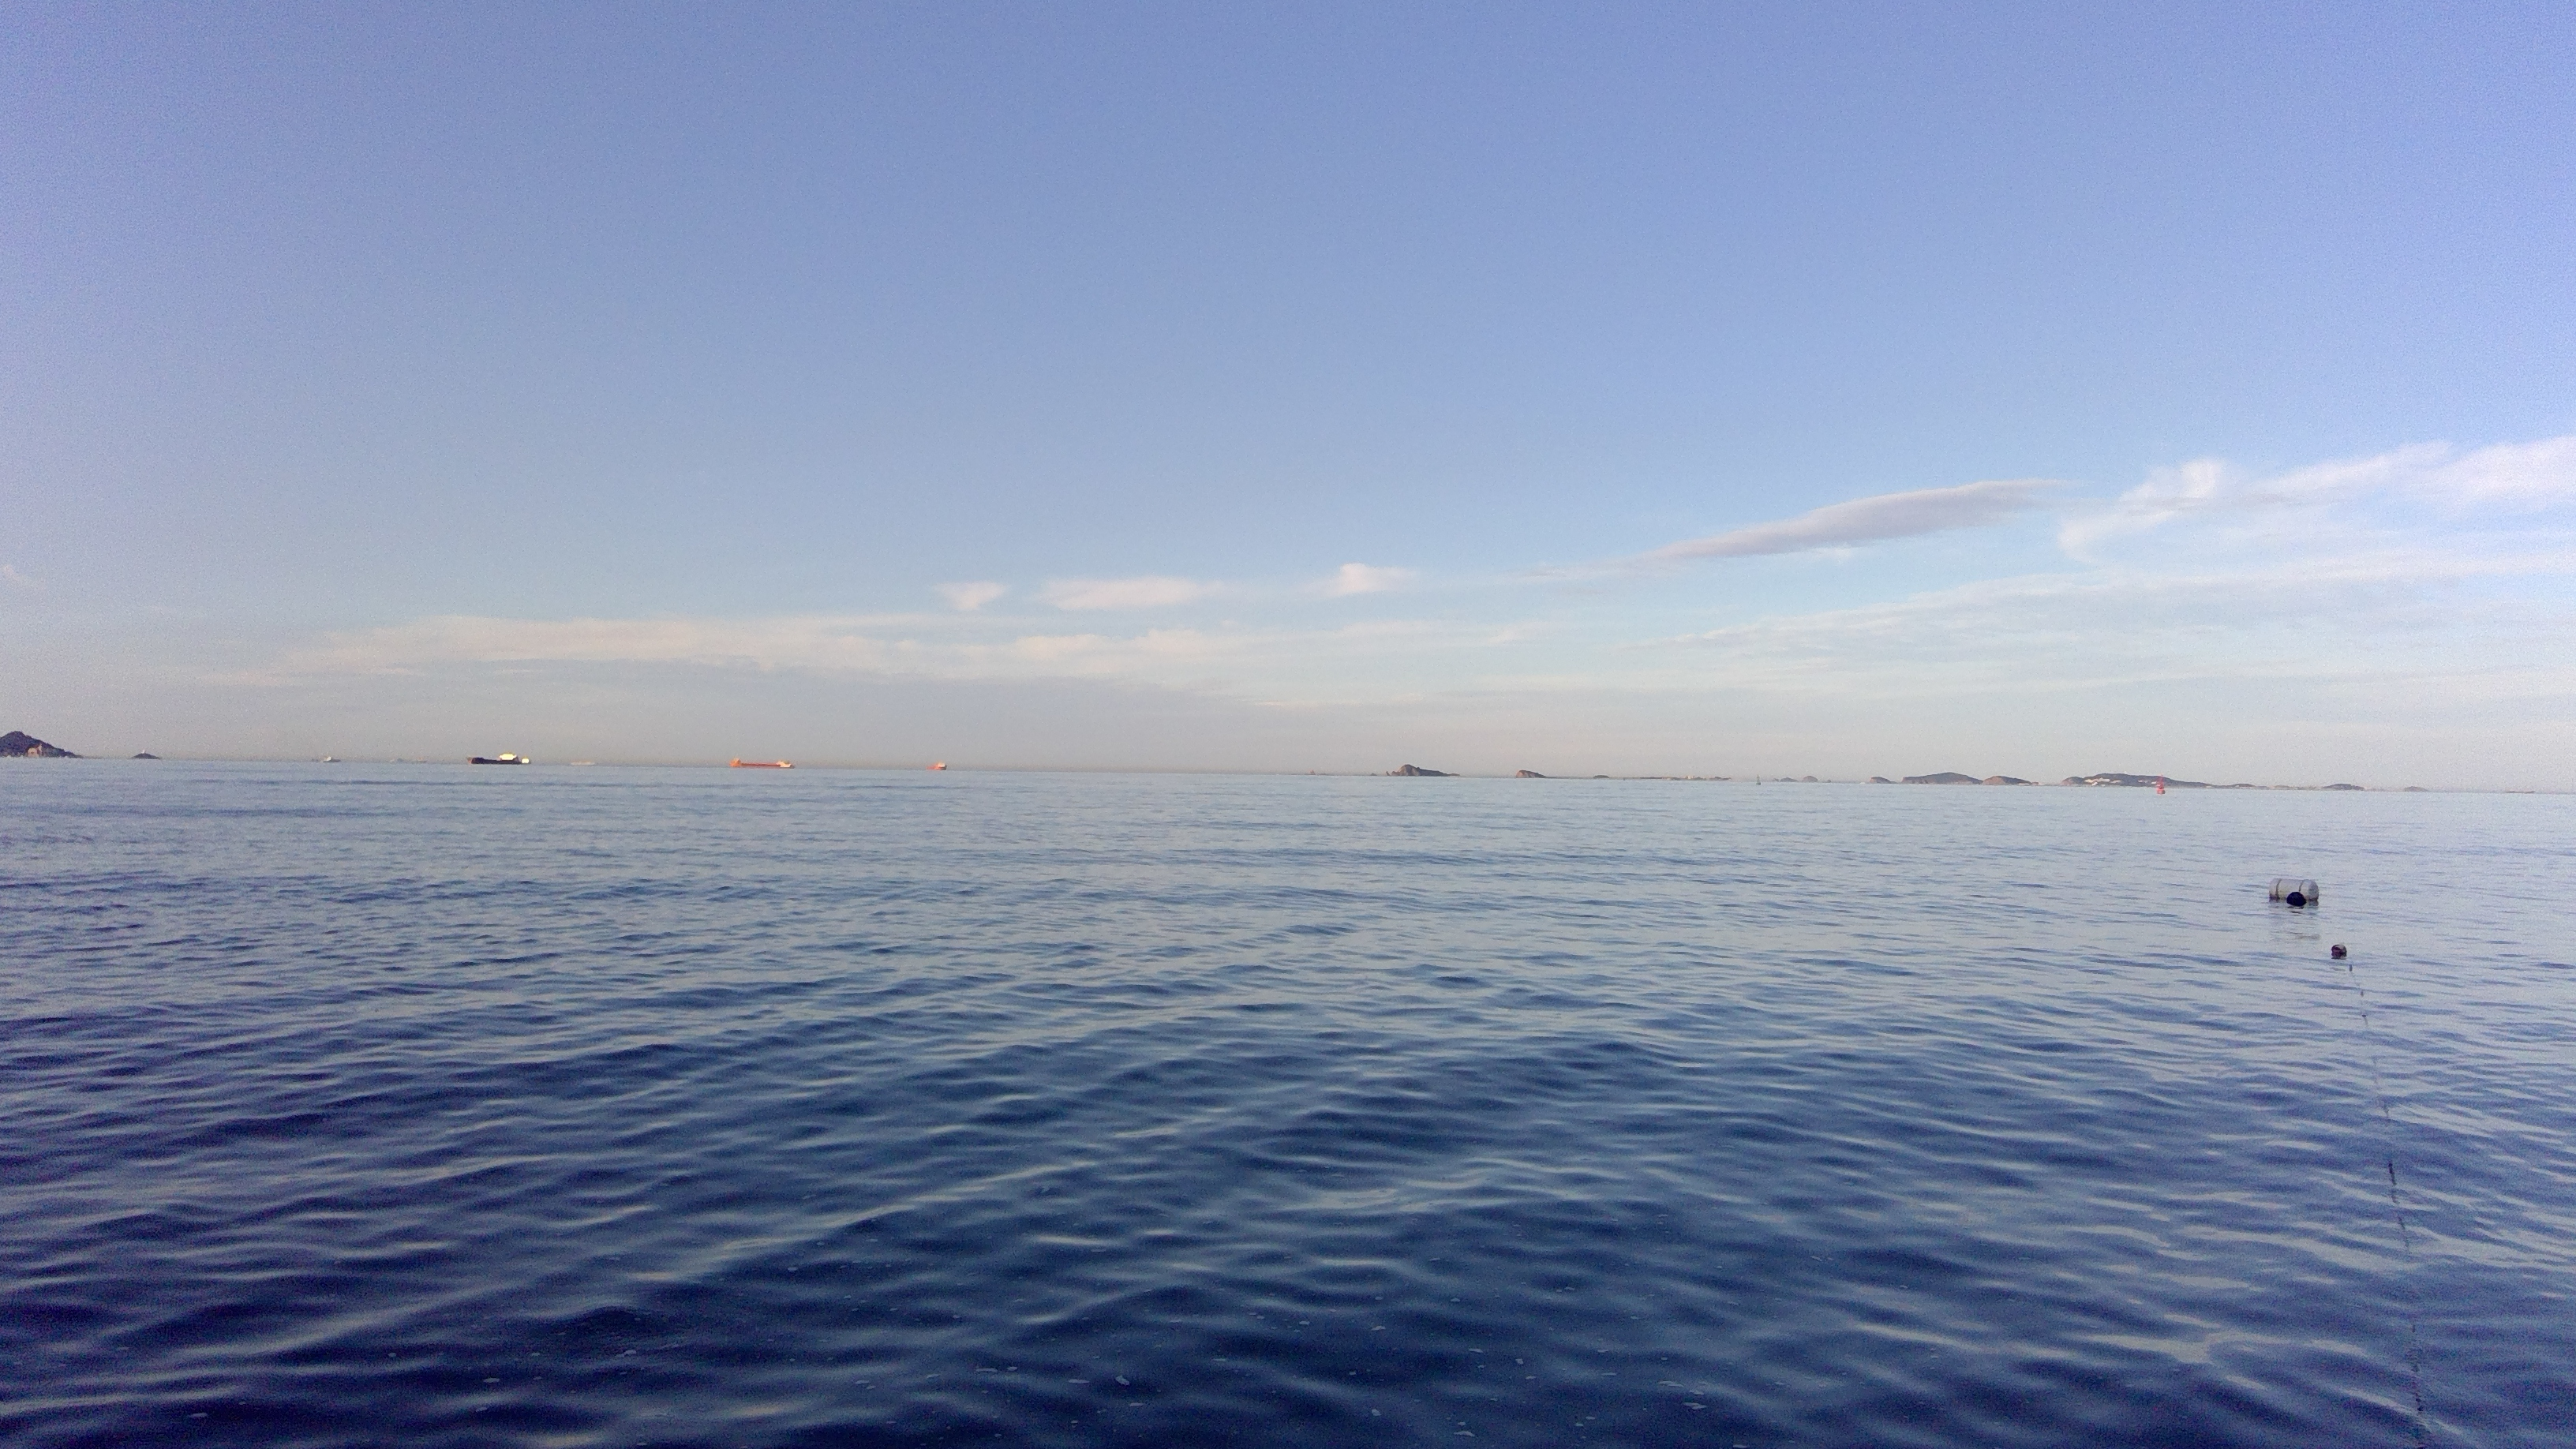buoy: (2151, 775, 2180, 805)
platform: (731, 750, 794, 780)
rock: (2054, 763, 2245, 800), (1856, 764, 2036, 791), (0, 720, 80, 766), (2261, 867, 2327, 908), (1376, 754, 1449, 784)
rubbish: (2327, 934, 2355, 970)
ship: (462, 741, 533, 768)
